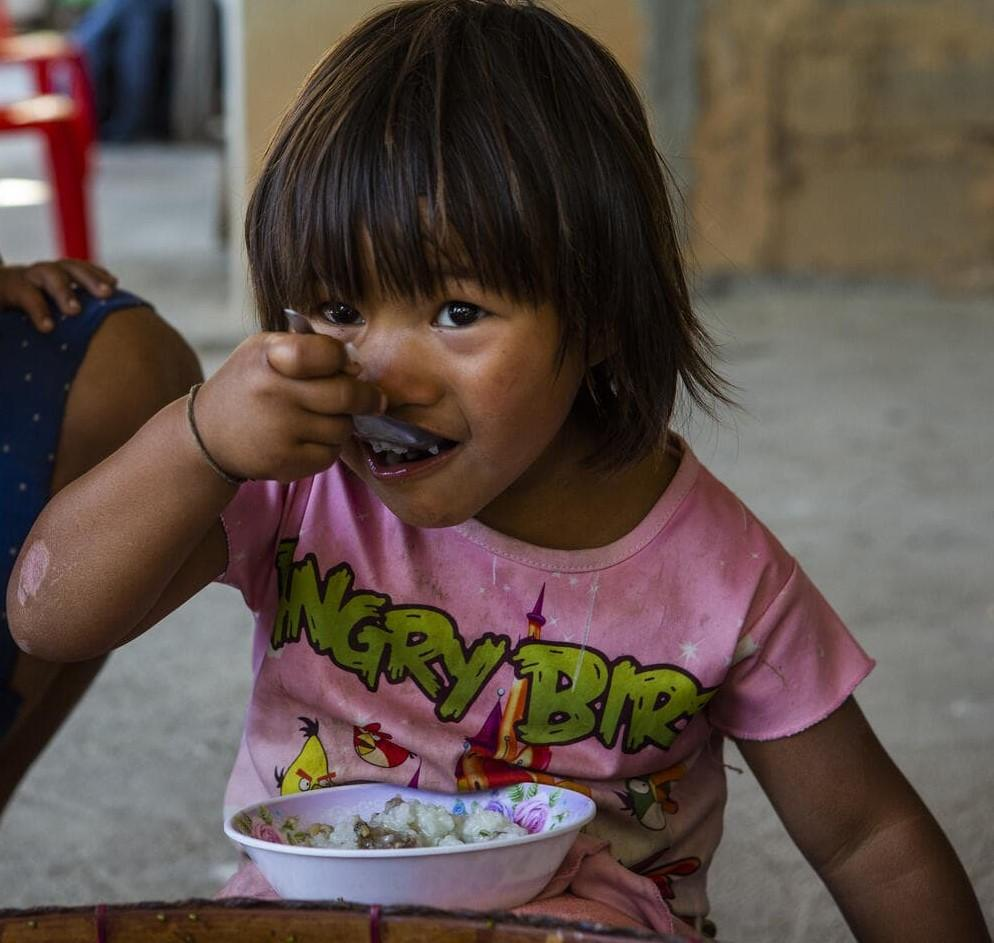Healthy: (278, 138, 618, 543)
